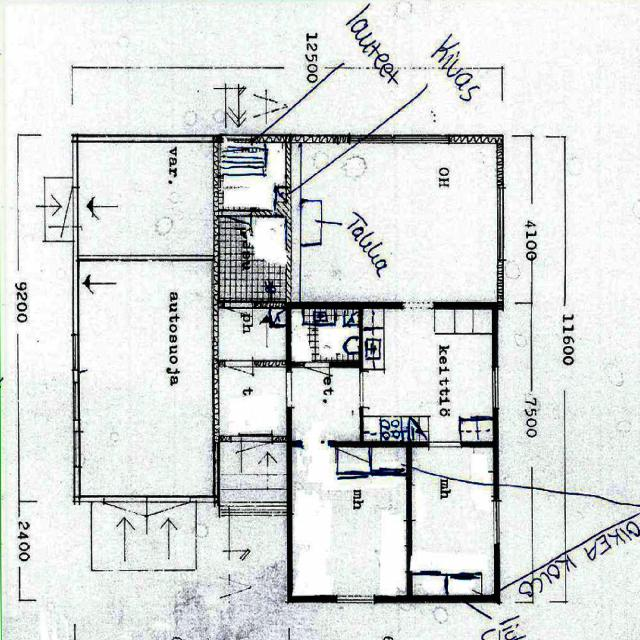door: (104, 496, 147, 552), (147, 496, 190, 552), (40, 188, 79, 226), (241, 435, 272, 478), (223, 210, 251, 248), (225, 302, 252, 340), (225, 360, 252, 398), (304, 360, 329, 396)
